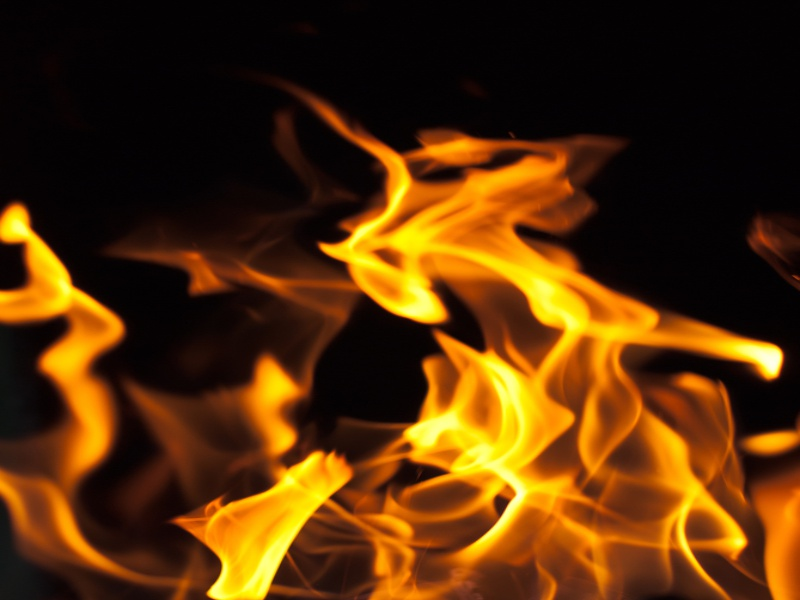fire: (1, 76, 800, 597)
